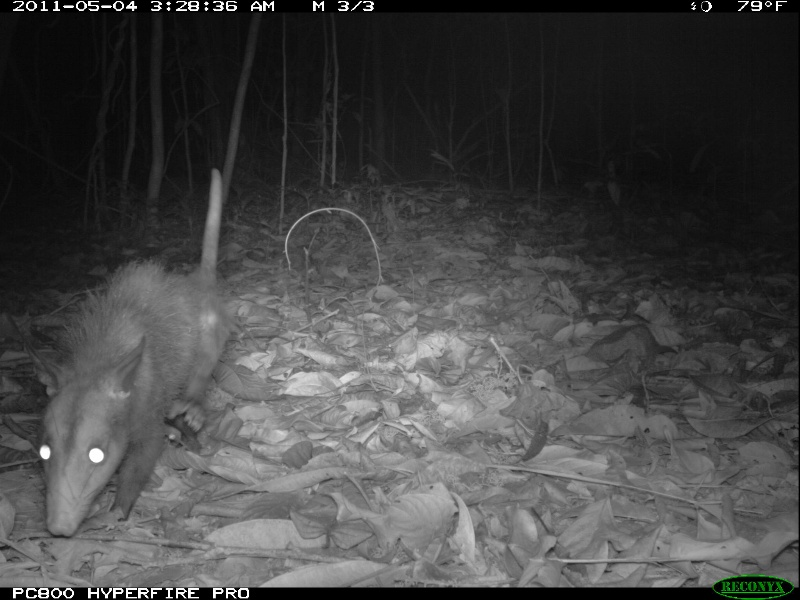opossum: (36, 167, 229, 541)
